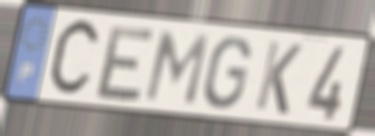4: (303, 43, 347, 123)
C: (45, 15, 103, 102)
E: (92, 24, 158, 103)
G: (201, 35, 253, 112)
K: (252, 38, 305, 118)
M: (141, 28, 212, 109)
